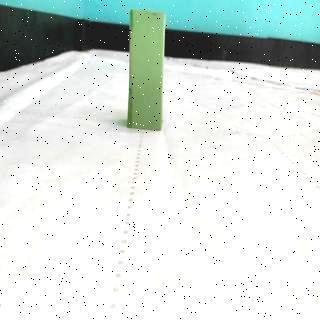greenbox: (128, 8, 165, 132)
